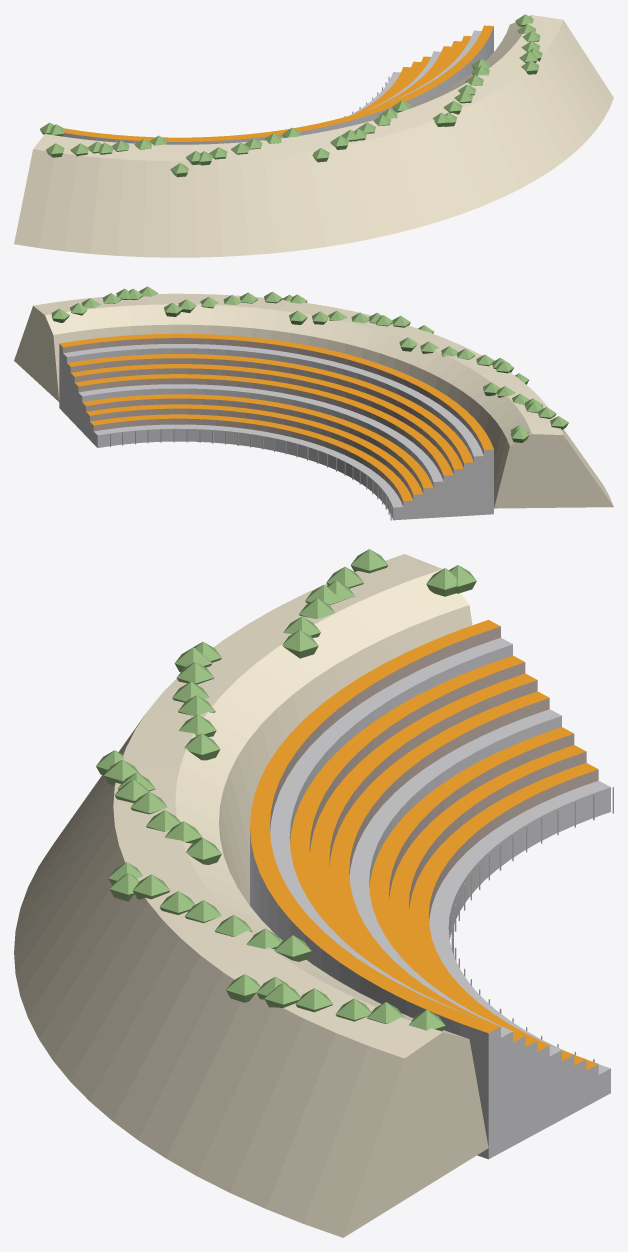
File: hugenholtz.glb
3 views of the same model, one above another, from view 1: azimuth 30°, elevation 25°; view 2: azimuth 150°, elevation 25°; view 3: azimuth 270°, elevation 25° (orthographic). The views are drawn at different scales.
Parts seen in each view (by area): view 1: dune, terraces, marram; view 2: terraces, dune, marram; view 3: dune, terraces, marram.
Boxes of the visible parts, bbox=[...] form: dune: bbox=[14, 15, 613, 257]; terraces: bbox=[63, 25, 493, 144]; marram: bbox=[40, 14, 542, 177]; terraces: bbox=[59, 333, 493, 520]; dune: bbox=[14, 293, 613, 508]; marram: bbox=[51, 286, 568, 442]; dune: bbox=[14, 554, 488, 1237]; terraces: bbox=[250, 620, 613, 1159]; marram: bbox=[96, 549, 476, 1031].
Size of the model in its own units: 109 by 14.6 by 48.31.
